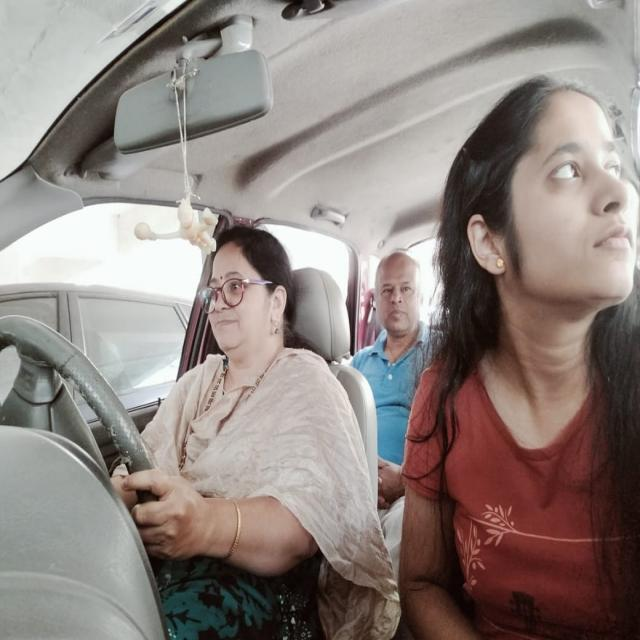person: (451, 74, 640, 320), (208, 248, 288, 350), (374, 253, 426, 334)
